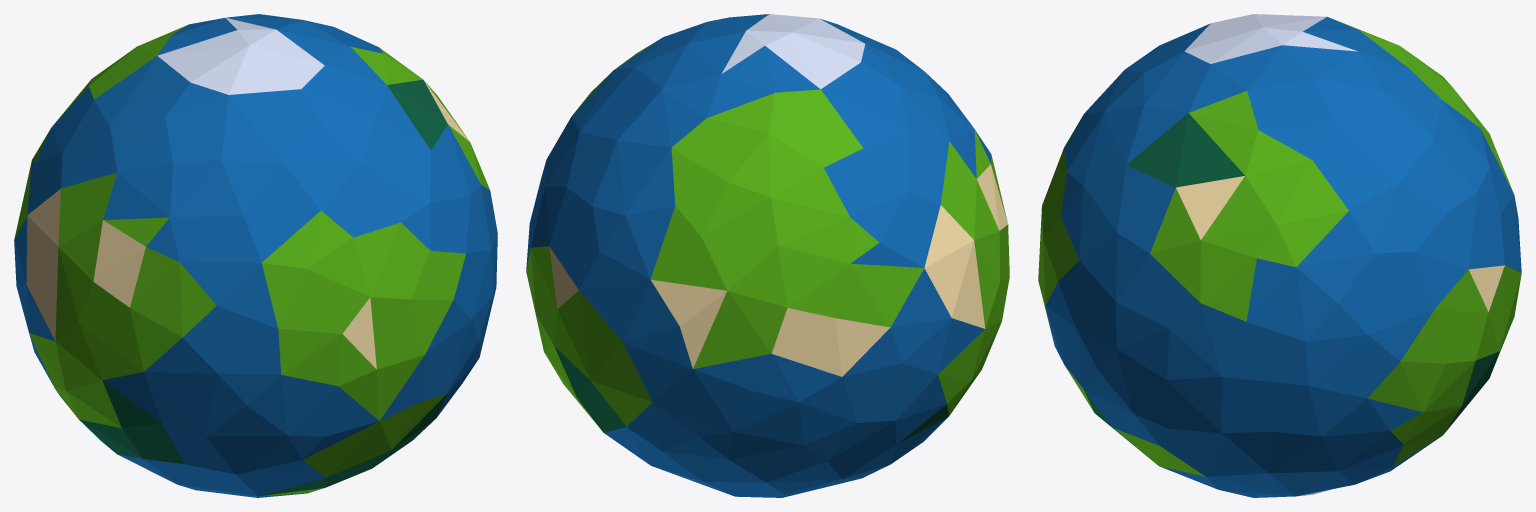
Rendered from earthLike.fbx.
3 views of the same model, side by side, from view 1: azimuth 30°, elevation 25°; view 2: azimuth 150°, elevation 25°; view 3: azimuth 270°, elevation 25° (orthographic).
Visible parts, largest first — view 1: EarthLike; view 2: EarthLike; view 3: EarthLike.
Part boxes in pixels (x1,y1,x2,y2): EarthLike: (14,14,497,497); EarthLike: (526,14,1009,497); EarthLike: (1038,14,1521,497).
Size of the model in its own units: 489 by 494 by 489.
1 material, 1 textured.
